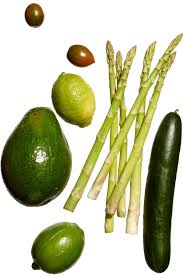aguacate: (1, 108, 79, 210)
